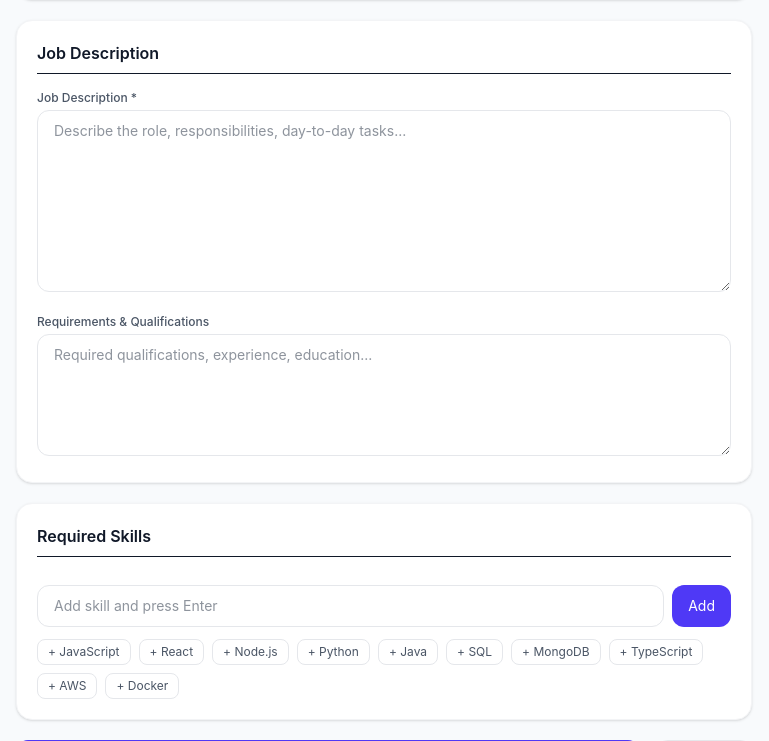
Scenario: PostJob › can add a skill by pressing Enter in the skill input
(page scrolled)
Type "Vue.js" into the field with placeholder "Add skill and press Enter" at (351, 606), box x1=37 y1=585 x2=664 y2=627
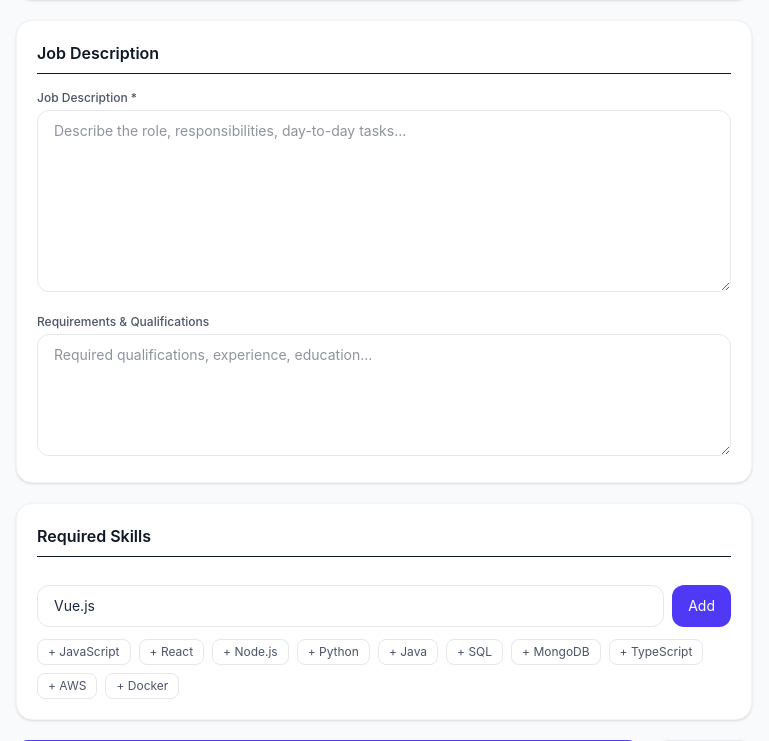
Press Enter in the field with placeholder "Add skill and press Enter", box x1=37 y1=585 x2=664 y2=627
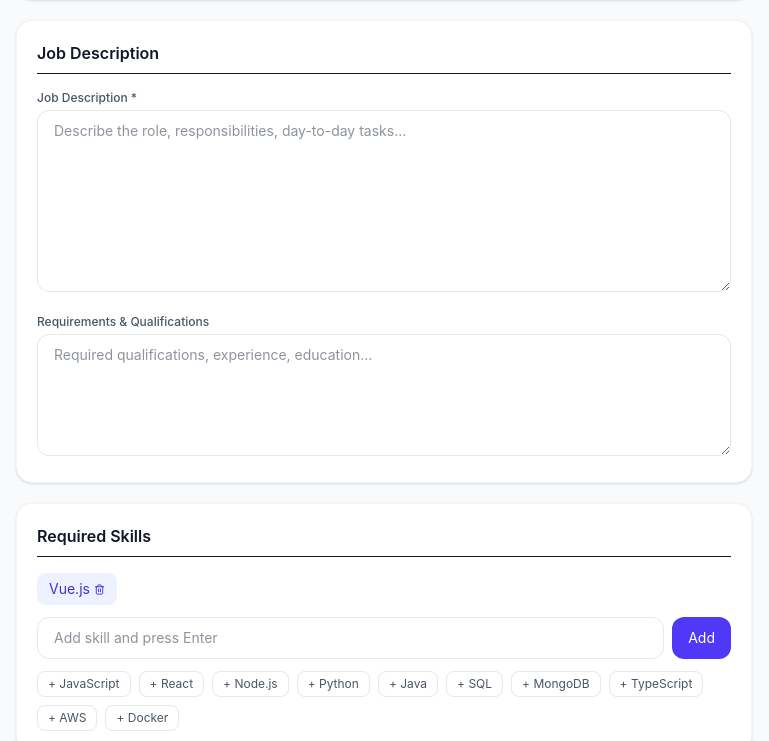
Check: the text "Vue.js" is shown, box x1=37 y1=573 x2=117 y2=605
